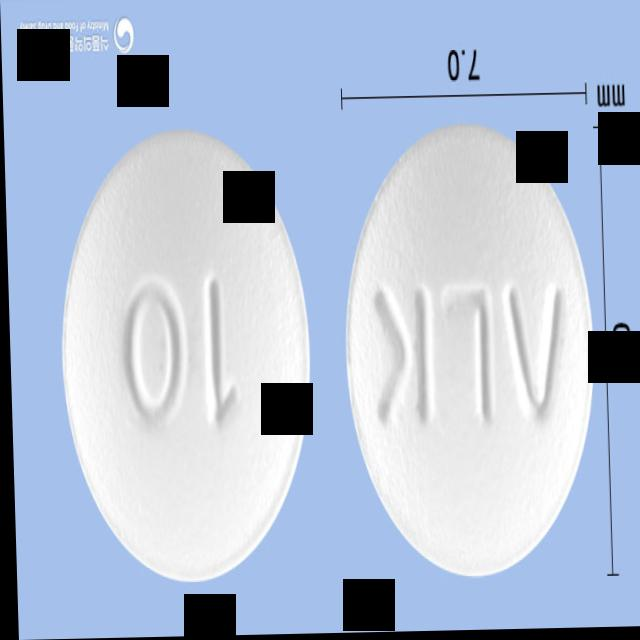Lenomid: (340, 124, 596, 585), (54, 130, 311, 588)
